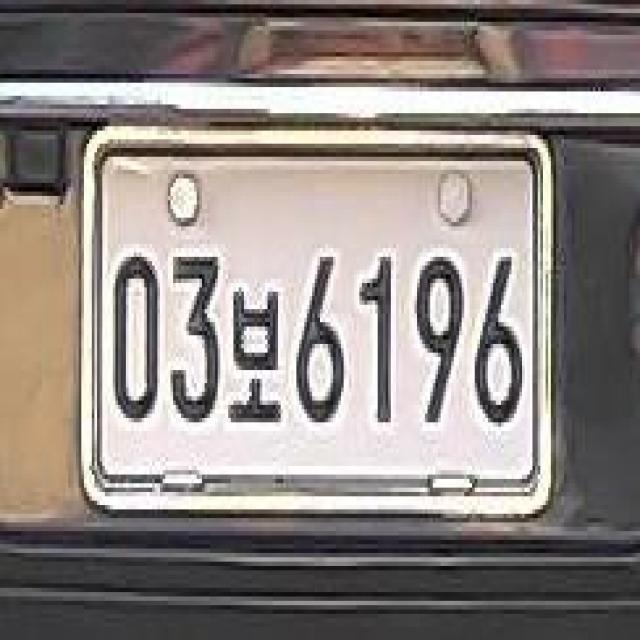illegal_plate: (74, 110, 564, 542)
